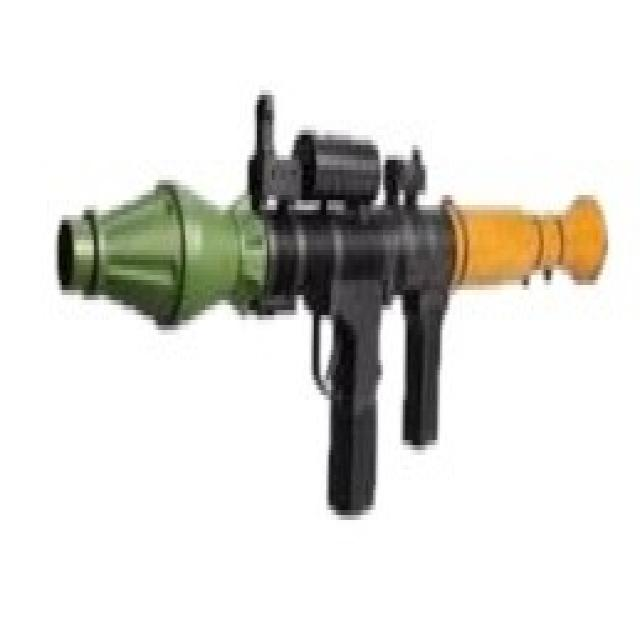bazooka: (51, 76, 615, 542)
